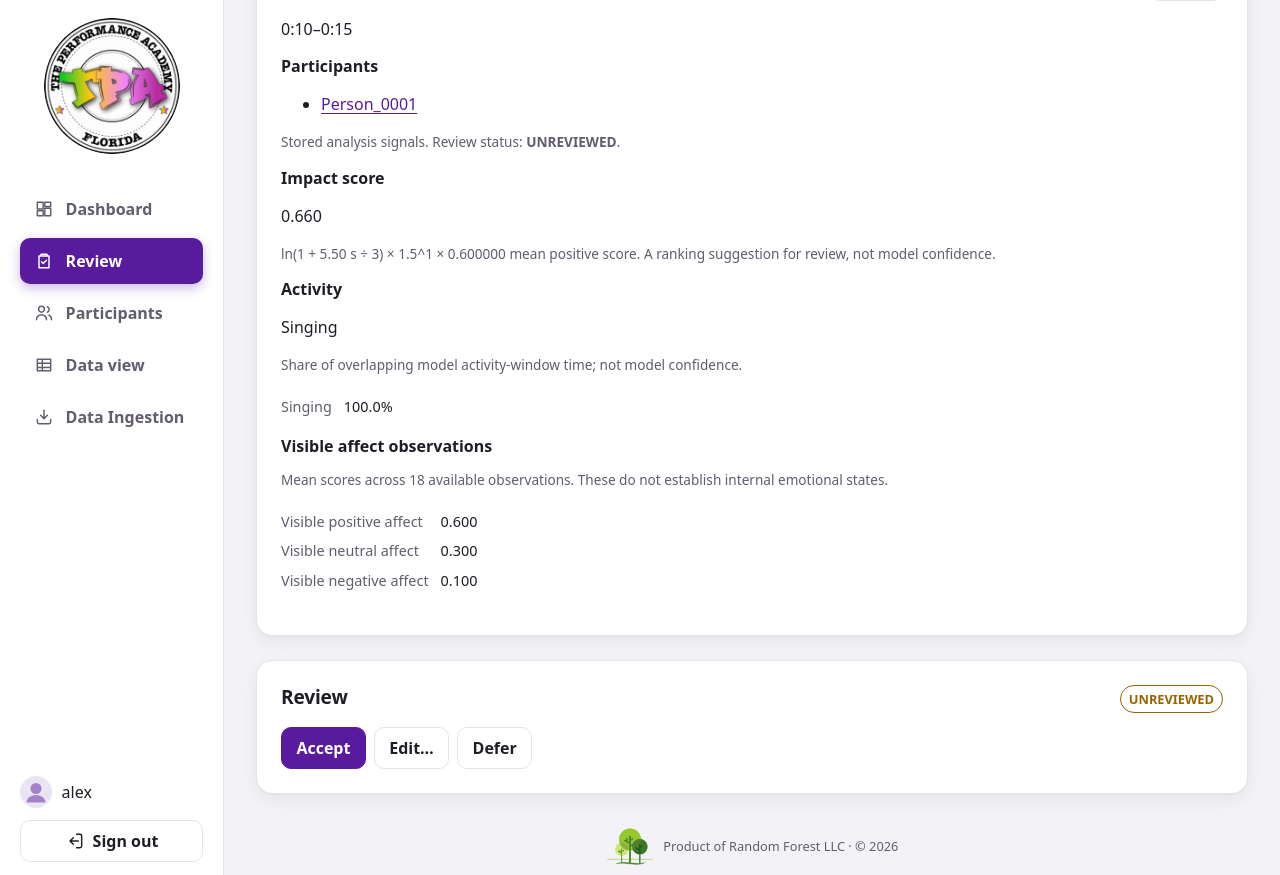
Test: saves an edited clip and returns with a dismissible confirmation
(page scrolled)
Check: the 2nd text "UNREVIEWED" is shown, box [1120, 685, 1223, 713]
Click the button "Edit…": (412, 748) [374, 727, 449, 769]
(page scrolled)
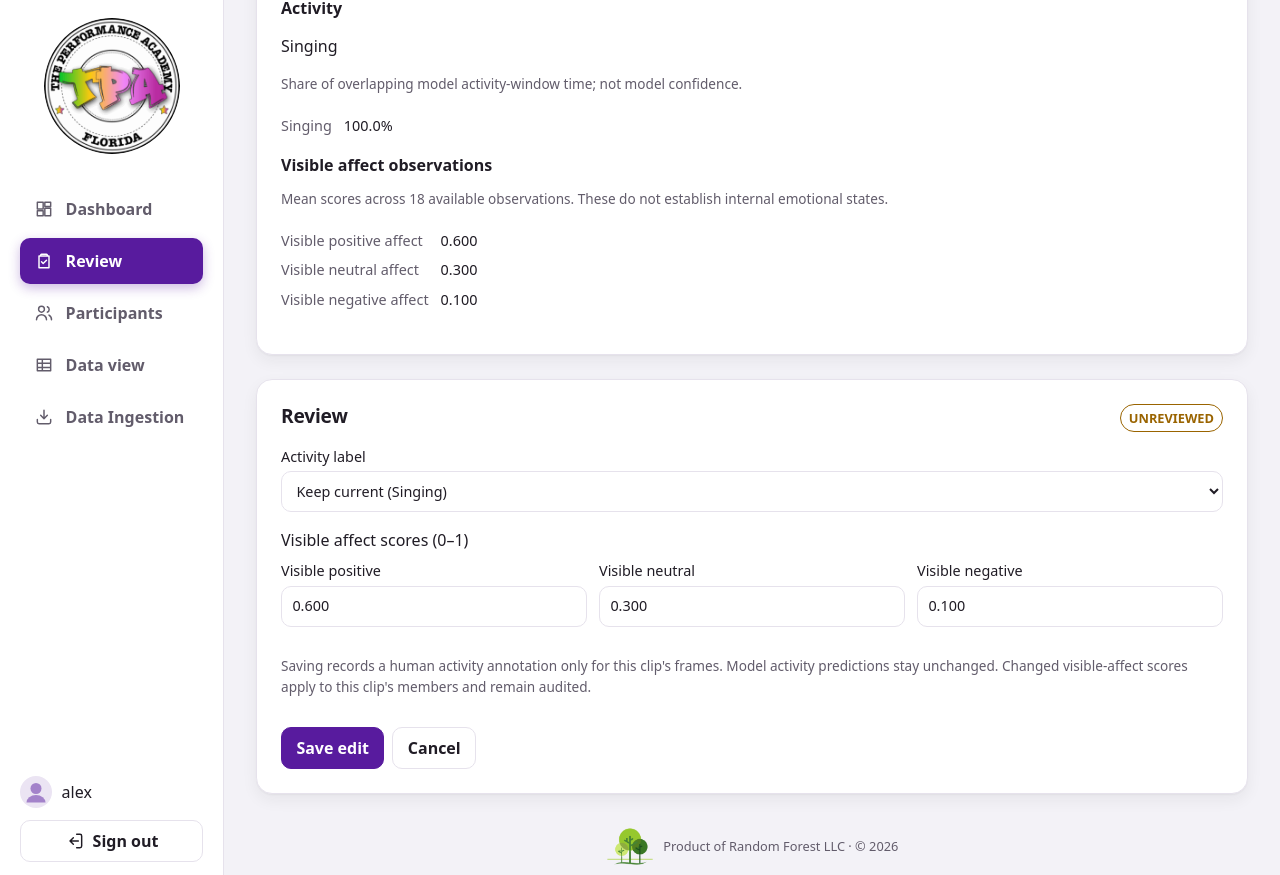
Click the button "Save edit": (333, 748) [281, 727, 384, 769]
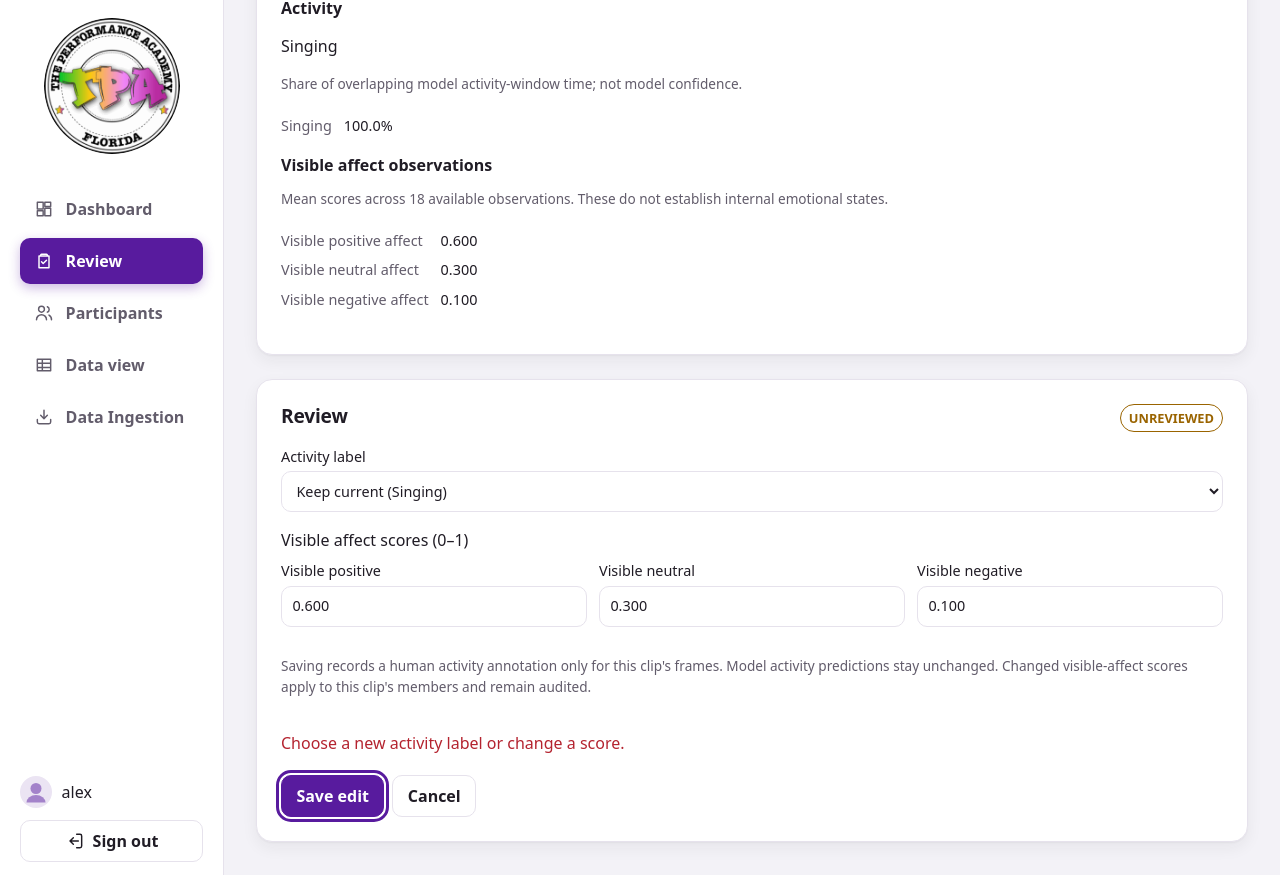
Check: the message reads "Choose a new activity label or change a score.", box [281, 732, 624, 754]
Select "Dancing" in the dropdown labelled "Activity label": (752, 492) [281, 471, 1223, 512]
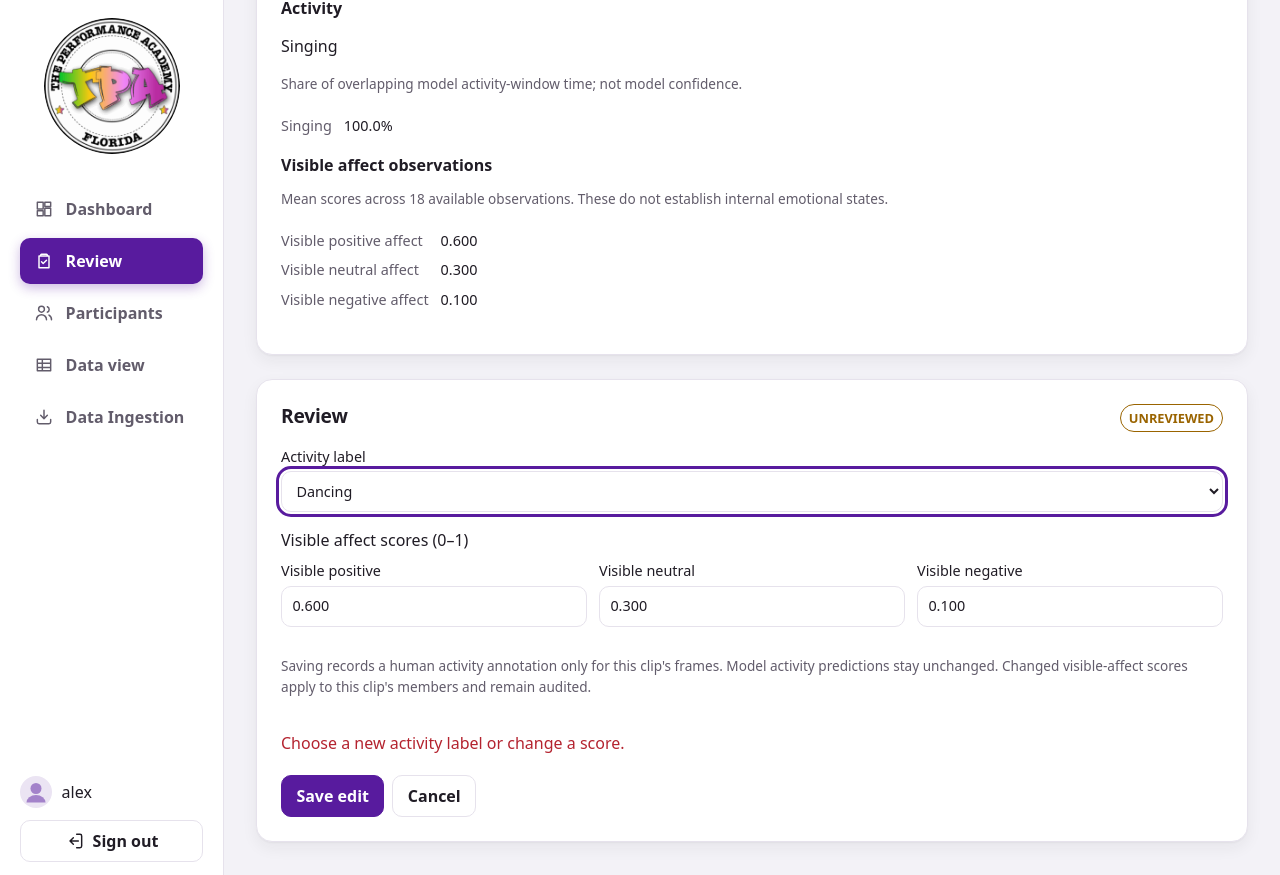
Check: the number field labelled "Visible positive" holds "0.6"
Replace the text in the number field labelled "Visible positive" with "0.9": (434, 606) [281, 586, 587, 627]
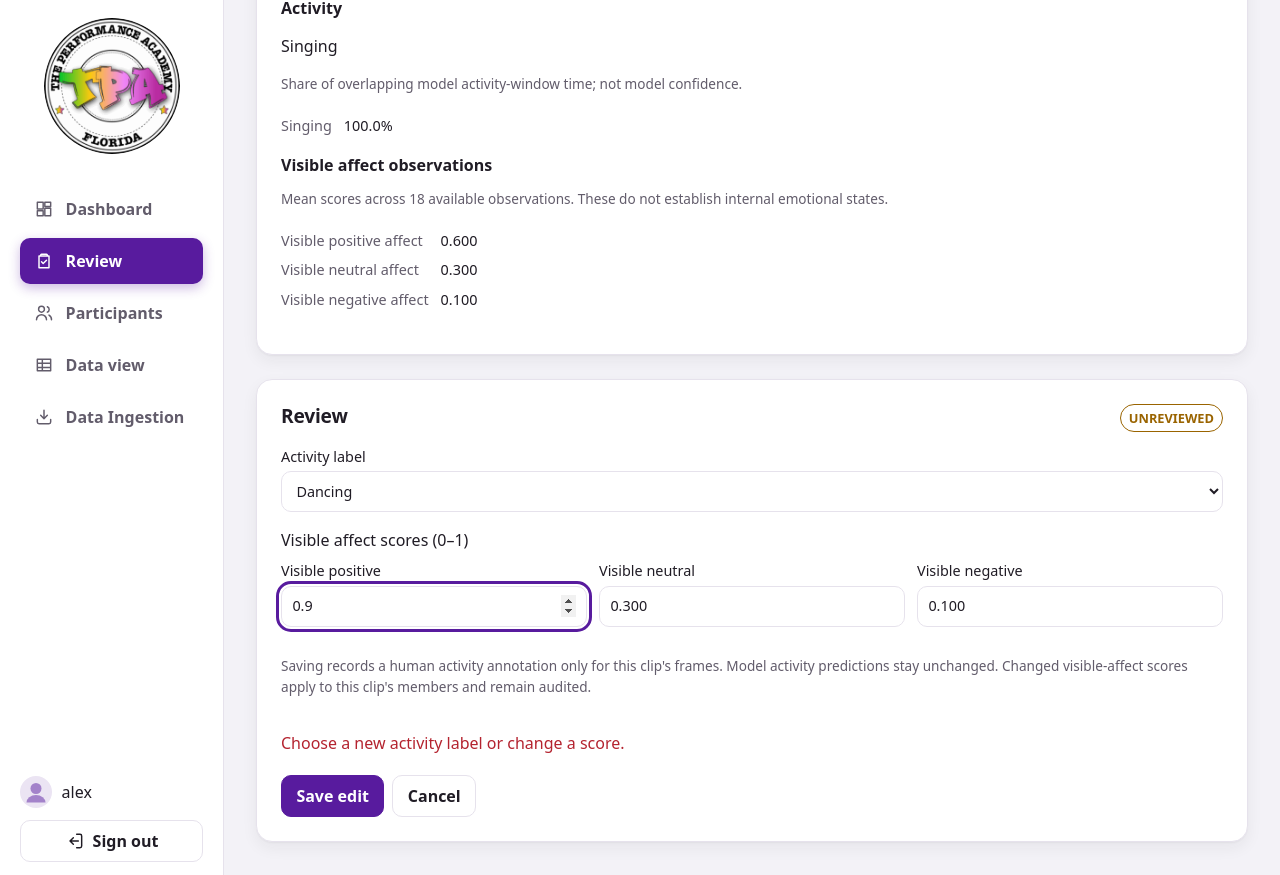
Click the button "Save edit": (333, 796) [281, 775, 384, 817]
(page scrolled)
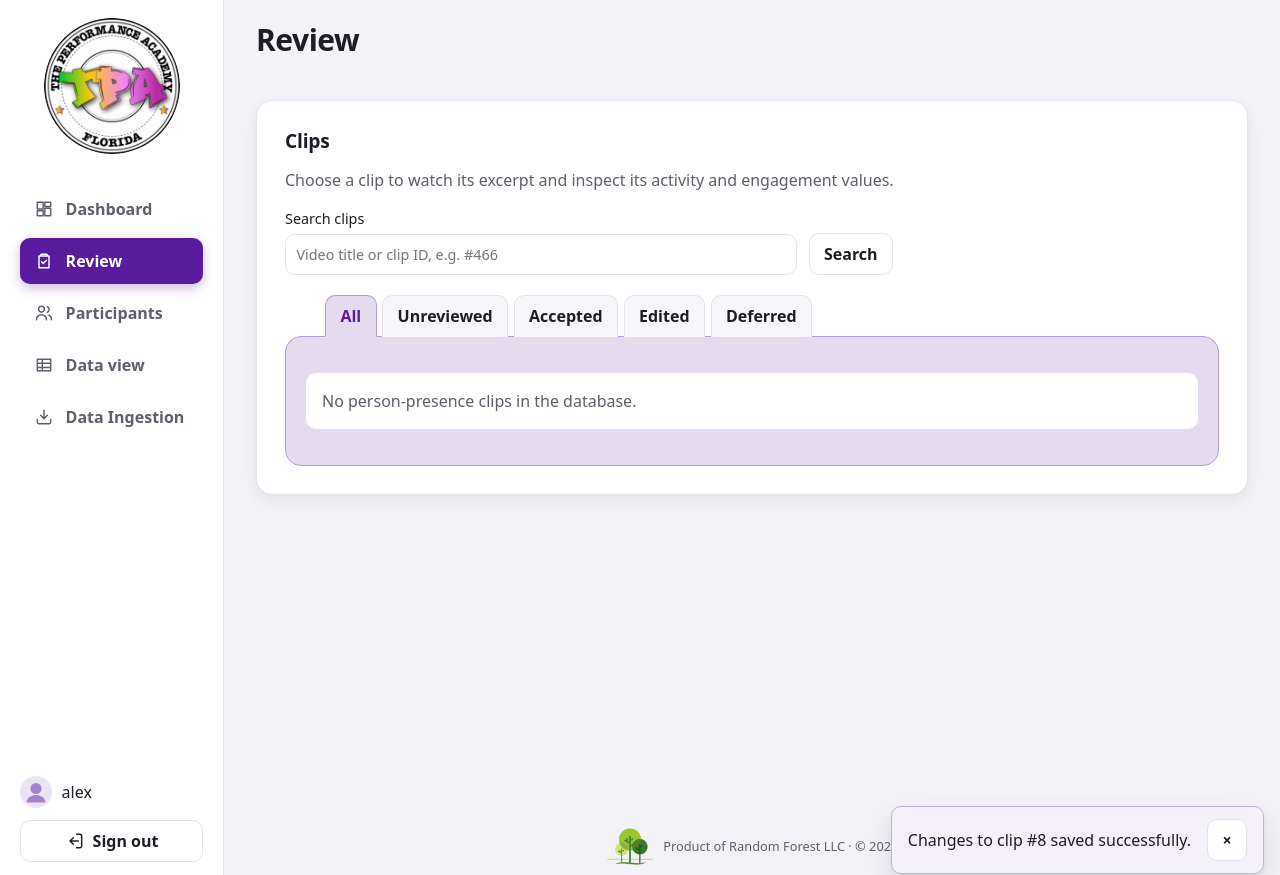
Check: the heading "Review" is shown, box [256, 22, 359, 58]
Click the button named "Dismiss confirmation": (1227, 840) [1207, 819, 1247, 861]
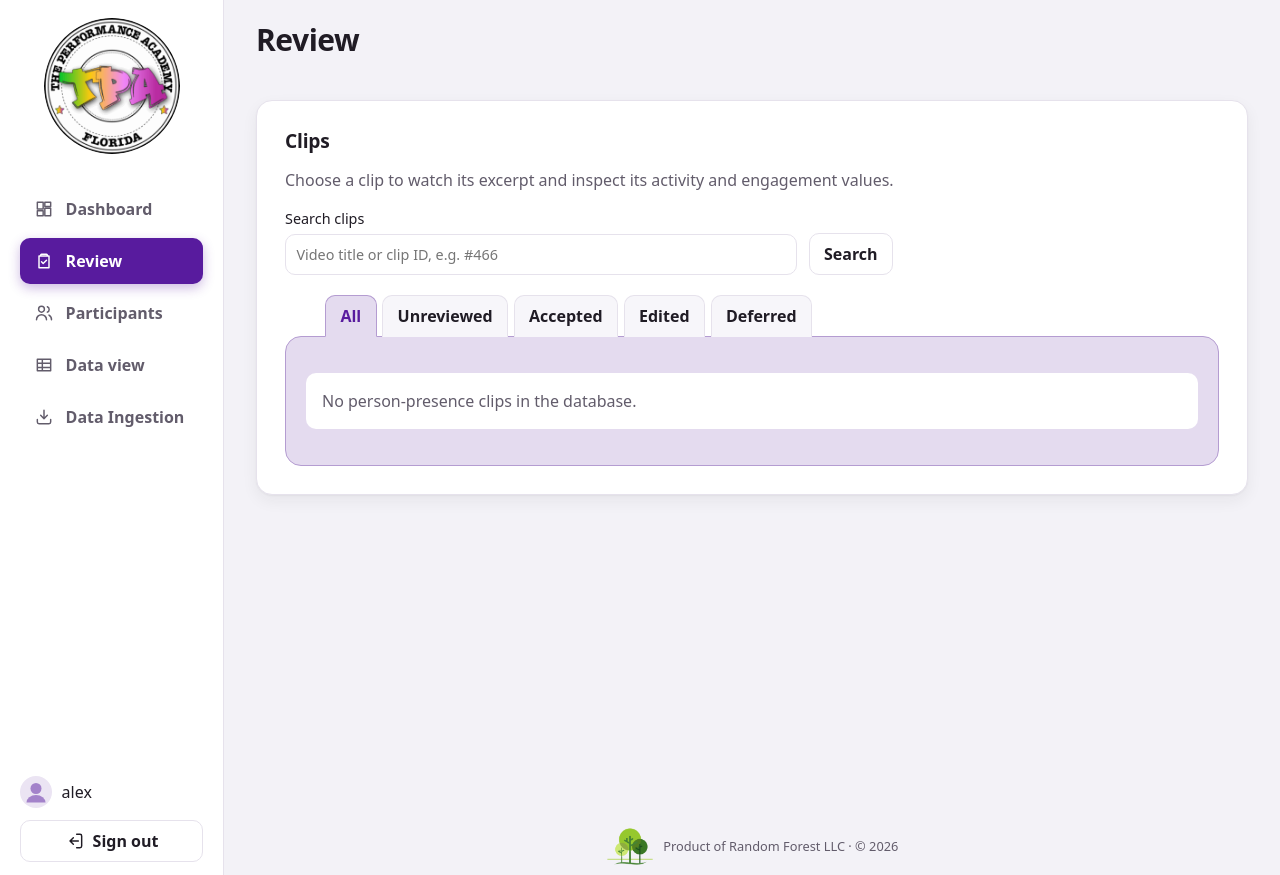
Check: the text "Changes to clip #8 saved successfully." is gone
